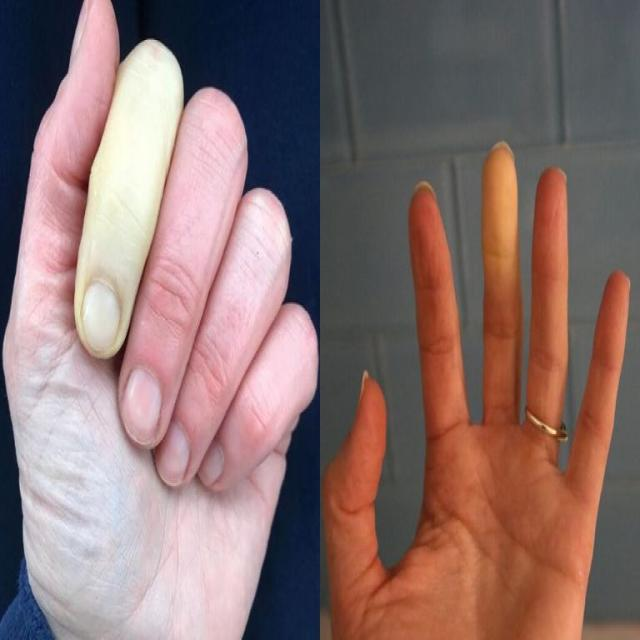raynauds: (65, 53, 192, 362), (471, 128, 531, 364)
